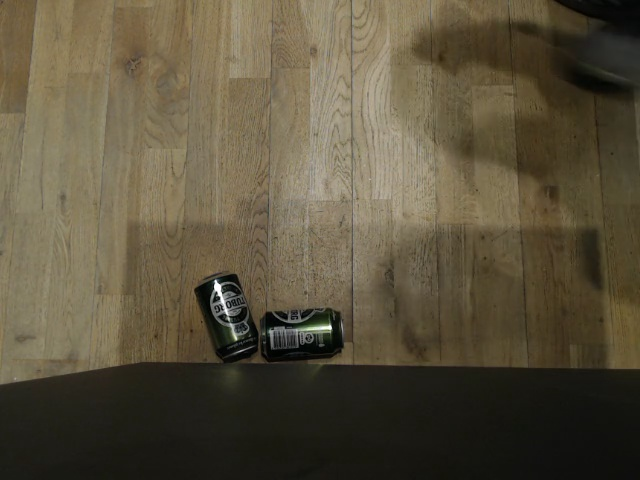beer: (194, 270, 258, 362), (259, 306, 344, 362)
